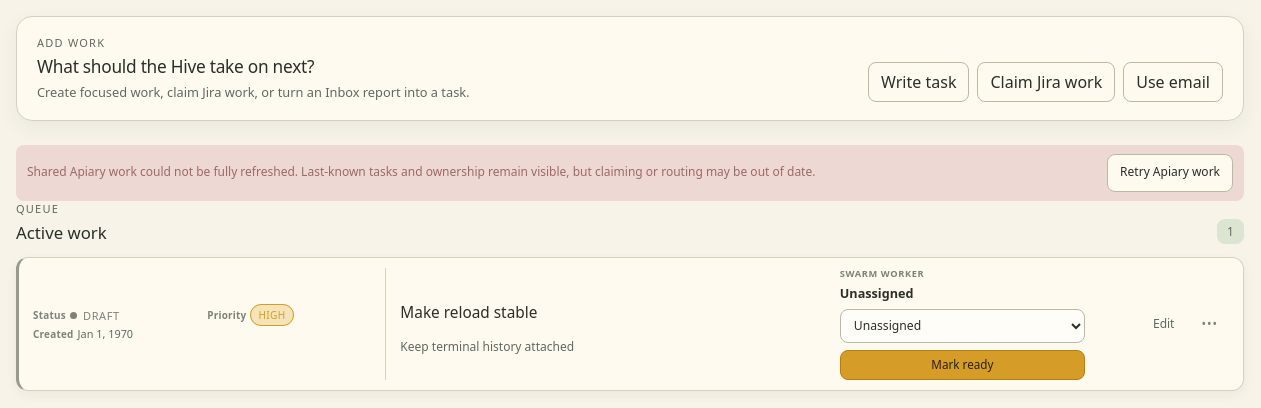
Test: keeps local tasks usable and retries a partial Apiary work refresh
Expected: the element "Make reload stable" is shown, [16, 256, 1244, 391]
Expected: the text "Shared Apiary work could not be fully refreshed" is shown, [27, 163, 815, 180]
Click the button "Retry Apiary work".
click(1170, 172)  # box [1107, 154, 1233, 192]
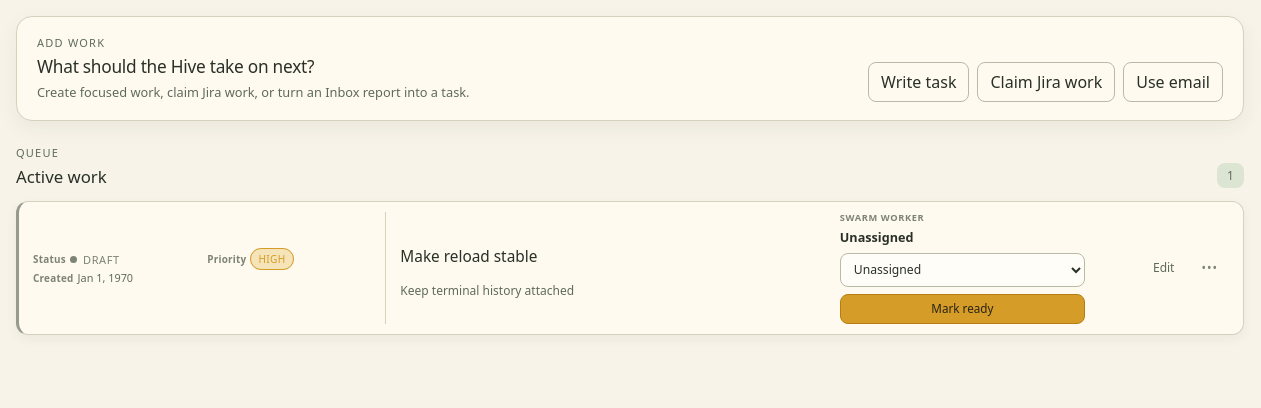
Expected: the text "Shared Apiary work could not be fully refreshed" is gone
